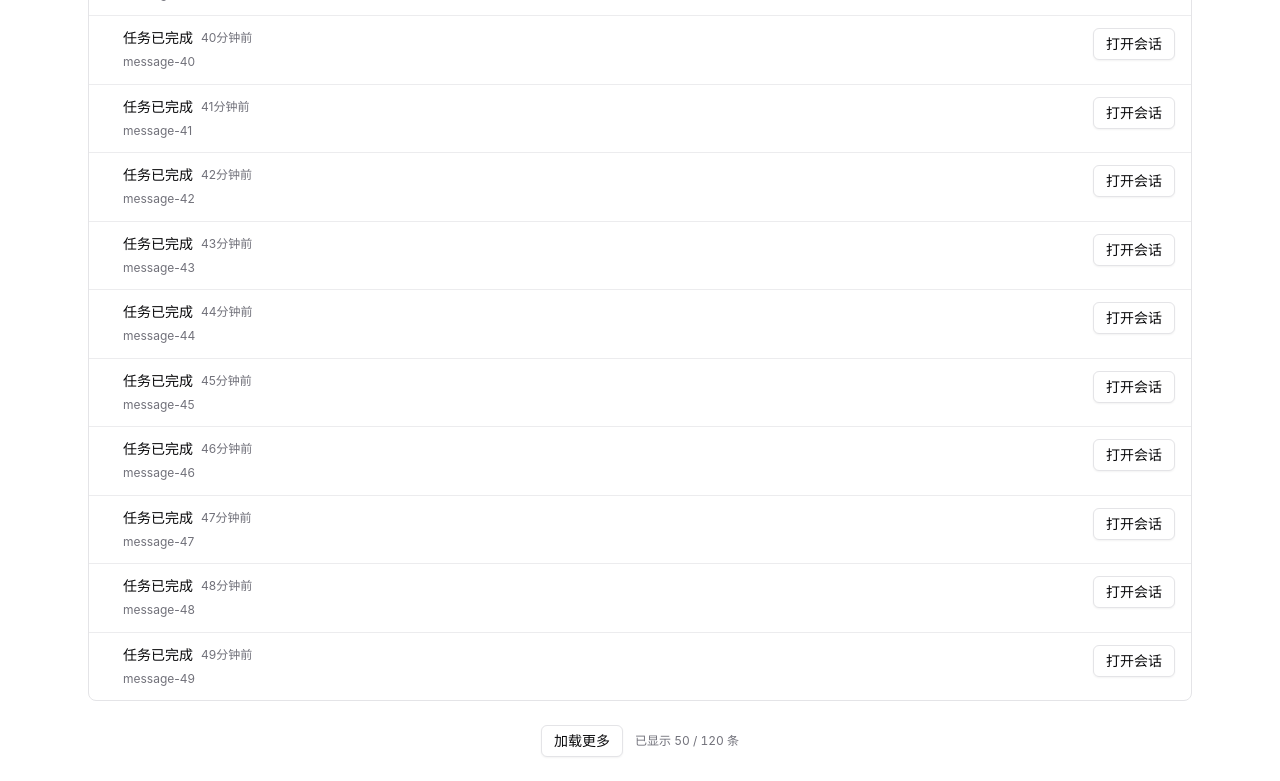
Test case: NotificationsPage polish › paginates the list client-side with a load-more control
(page scrolled)
Expected: the text "message-50" is not shown
Click the button "加载更多" at [582, 741], box [541,725,623,757]
(page scrolled)
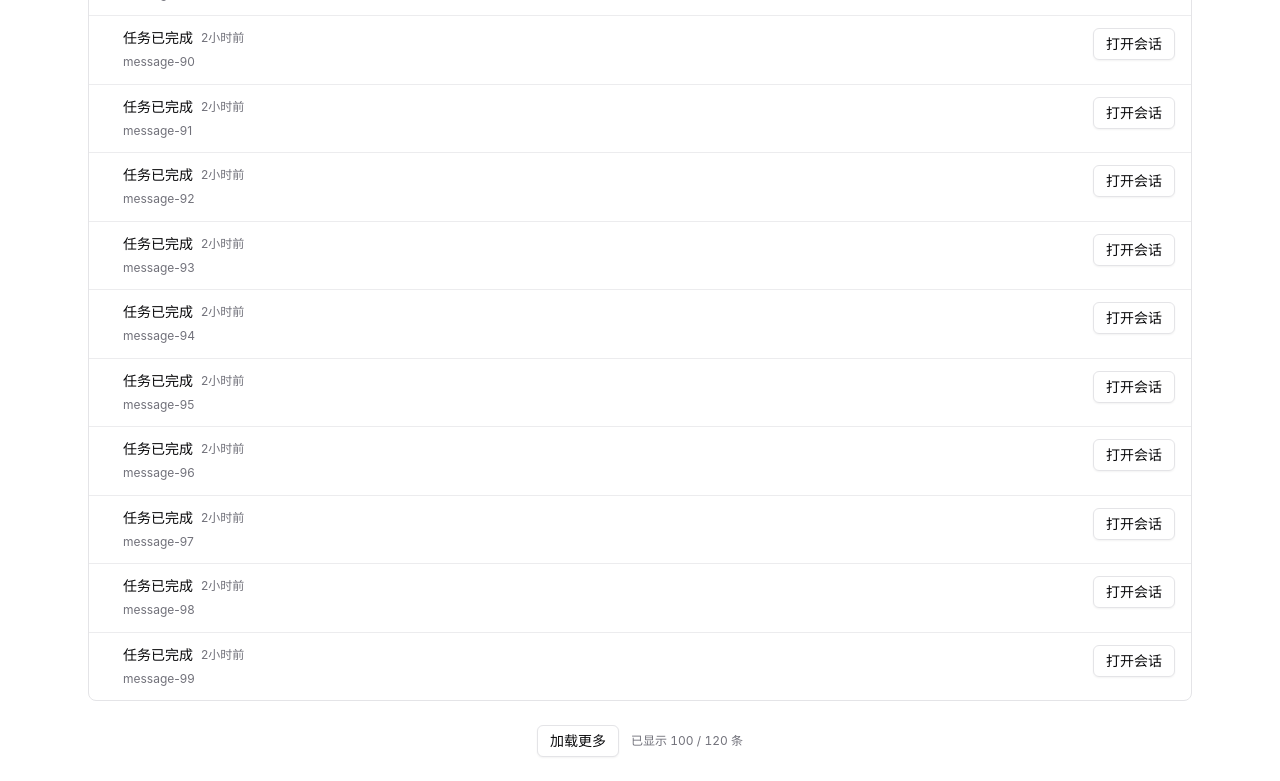
Expected: the text "message-100" is not shown
Now the text "已显示 100 / 120 条" is shown, box [631,733,743,748]
Click the button "加载更多" at [578, 741], box [537,725,619,757]
(page scrolled)
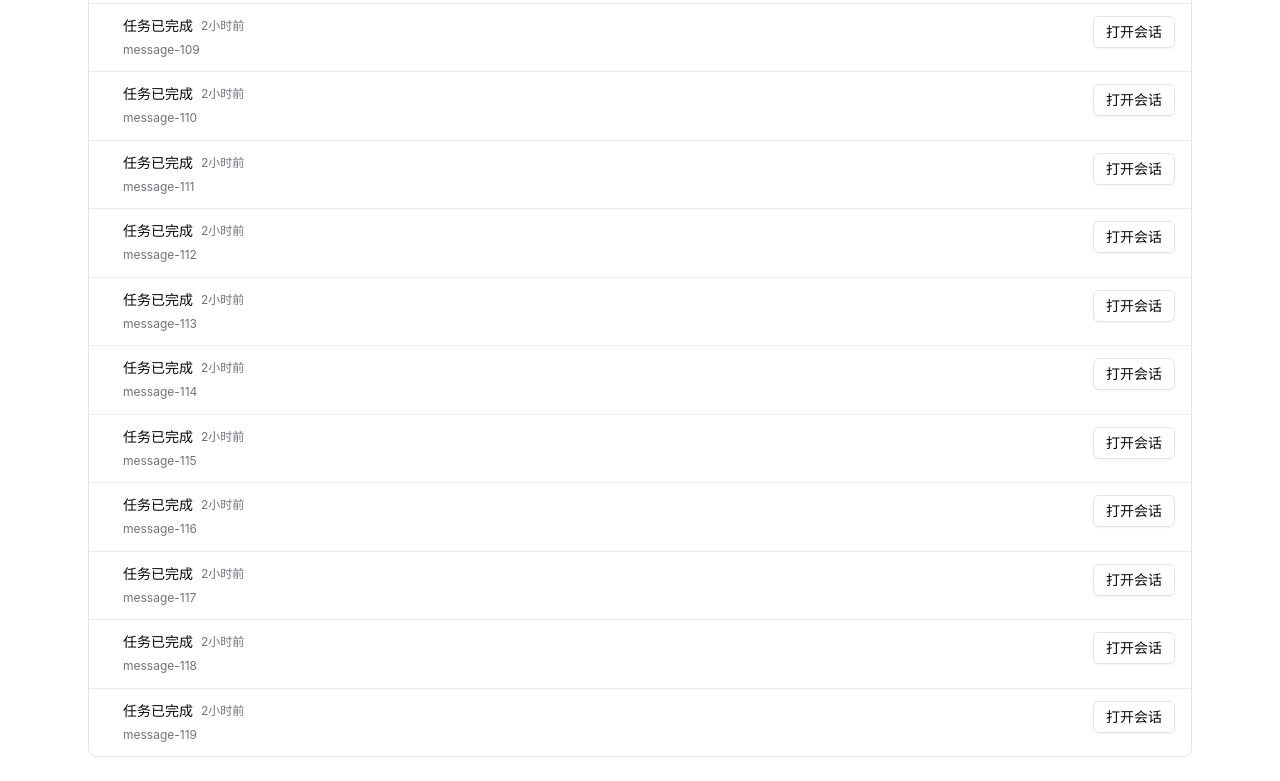
Now the text "message-119" is shown, box [123,726,197,742]
Now the button "加载更多" is gone
Now the text "已显示" is gone
